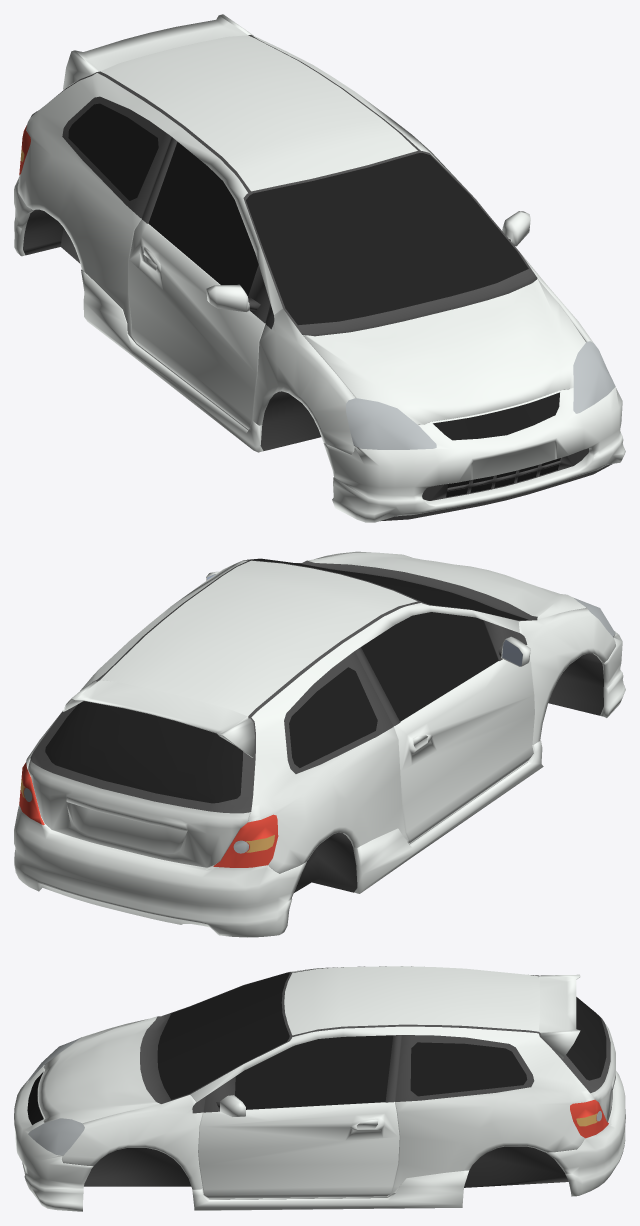
The model's file is civic.glb.
The picture shows the model from 3 angles, top to bottom: view 1: azimuth 30°, elevation 25°; view 2: azimuth 150°, elevation 25°; view 3: azimuth 270°, elevation 25°; orthographic projection. The views are drawn at different scales.
Parts seen in each view (by area): view 1: windows, Main, hood, front bumper, right door, trim 1, right front fender, headlight glass, side skirts, spoiler, underbody, grille (+3 smaller); view 2: Main, windows, rear bumper, right door, rear hatch, trim 1, right front fender, hood, spoiler, underbody, side skirts, taillight (+1 smaller); view 3: Main, windows, left door, hood, trim 1, underbody, left front fender, side skirts, front bumper, rear bumper, spoiler, headlight glass (+4 smaller).
Boxes of the visible parts, x1=… form: windows: x1=68, y1=103, x2=528, y2=325; Main: x1=18, y1=35, x2=485, y2=430; hood: x1=303, y1=278, x2=585, y2=424; front bumper: x1=323, y1=387, x2=625, y2=522; right door: x1=129, y1=219, x2=265, y2=429; trim 1: x1=30, y1=35, x2=537, y2=336; right front fender: x1=253, y1=309, x2=355, y2=454; headlight glass: x1=346, y1=341, x2=615, y2=449; side skirts: x1=81, y1=269, x2=263, y2=452; spoiler: x1=63, y1=14, x2=253, y2=89; underbody: x1=23, y1=209, x2=321, y2=450; grille: x1=433, y1=392, x2=560, y2=497; Main: x1=18, y1=560, x2=535, y2=873; windows: x1=45, y1=558, x2=528, y2=803; rear bumper: x1=14, y1=805, x2=306, y2=937; right door: x1=394, y1=659, x2=534, y2=843; rear hatch: x1=27, y1=759, x2=250, y2=867; trim 1: x1=30, y1=558, x2=537, y2=813; right front fender: x1=518, y1=607, x2=615, y2=744; hood: x1=307, y1=551, x2=585, y2=619; spoiler: x1=63, y1=680, x2=254, y2=757; underbody: x1=294, y1=653, x2=603, y2=892; side skirts: x1=353, y1=740, x2=543, y2=893; taillight: x1=19, y1=762, x2=278, y2=867; Main: x1=190, y1=966, x2=594, y2=1199; windows: x1=157, y1=973, x2=606, y2=1109; left door: x1=198, y1=1102, x2=399, y2=1198; hood: x1=38, y1=1016, x2=160, y2=1123; trim 1: x1=140, y1=966, x2=610, y2=1113; underbody: x1=84, y1=1146, x2=568, y2=1187; left front fender: x1=62, y1=1094, x2=202, y2=1189; side skirts: x1=192, y1=1170, x2=469, y2=1210; front bumper: x1=14, y1=1065, x2=93, y2=1211; rear bumper: x1=546, y1=1071, x2=625, y2=1196; spoiler: x1=538, y1=974, x2=580, y2=1058; headlight glass: x1=28, y1=1037, x2=84, y2=1155.
Size of the model in its own units: 2.12 by 1.39 by 4.57.
